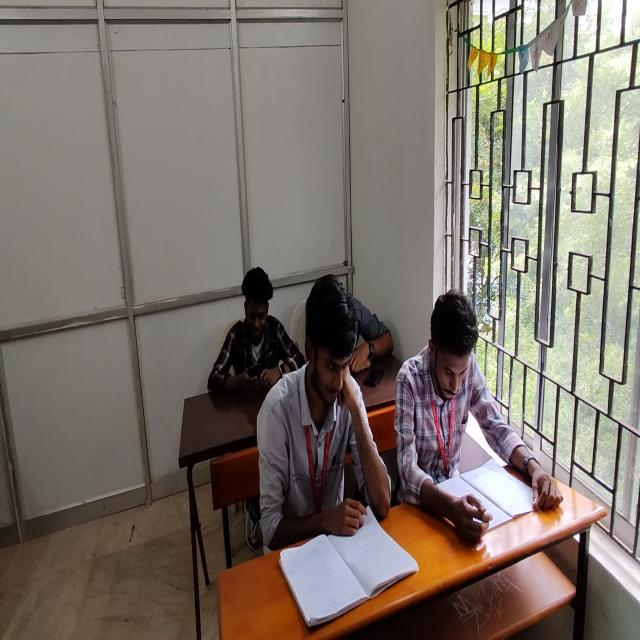reading: (260, 271, 394, 558), (411, 288, 566, 534)
sleeping: (332, 289, 392, 369)
using_mobile: (208, 264, 306, 394)
